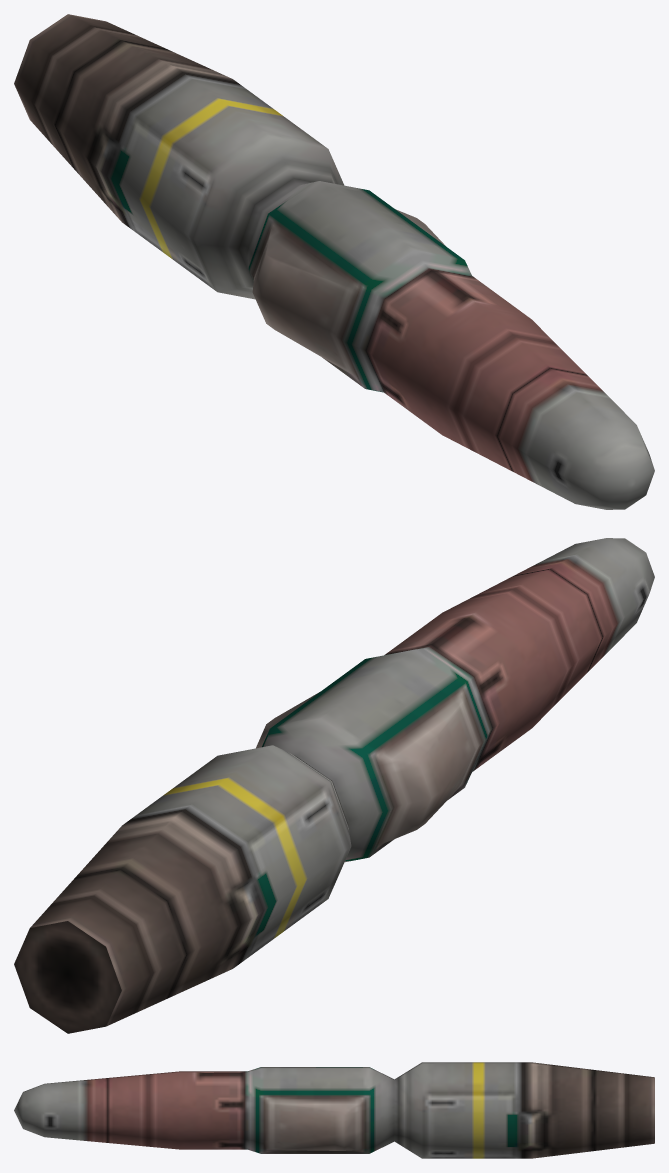
Rendered from Tan_Torpedo_Projectile_01.glb.
3 renders of one model, top to bottom at view 1: azimuth 30°, elevation 25°; view 2: azimuth 150°, elevation 25°; view 3: azimuth 270°, elevation 25°, orthographic. The views are drawn at different scales.
Visible parts, largest first — view 1: tan_torpedo_01_t1; view 2: tan_torpedo_01_t1; view 3: tan_torpedo_01_t1.
Boxes of the visible parts, x1=… form: tan_torpedo_01_t1: x1=14, y1=14, x2=654, y2=509; tan_torpedo_01_t1: x1=14, y1=538, x2=654, y2=1033; tan_torpedo_01_t1: x1=14, y1=1062, x2=654, y2=1158.
Bounding box in the file's own units: 0.1007 × 0.0888 × 0.5533.
1 material, 1 textured.
